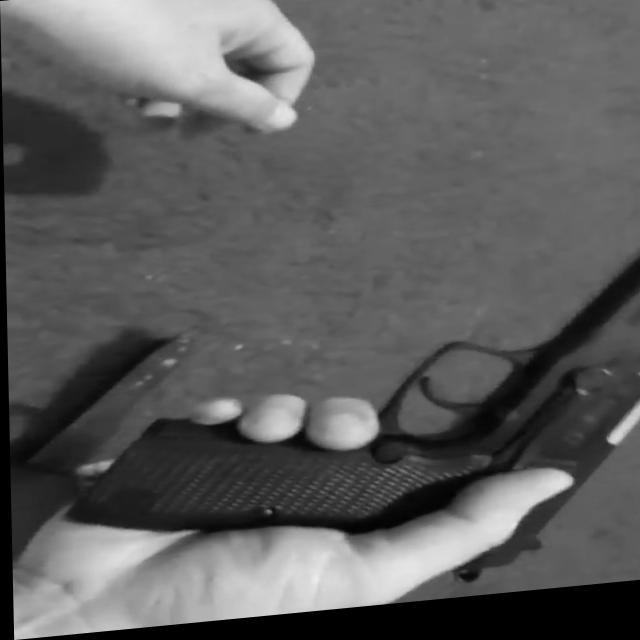handgun: (99, 260, 640, 619)
